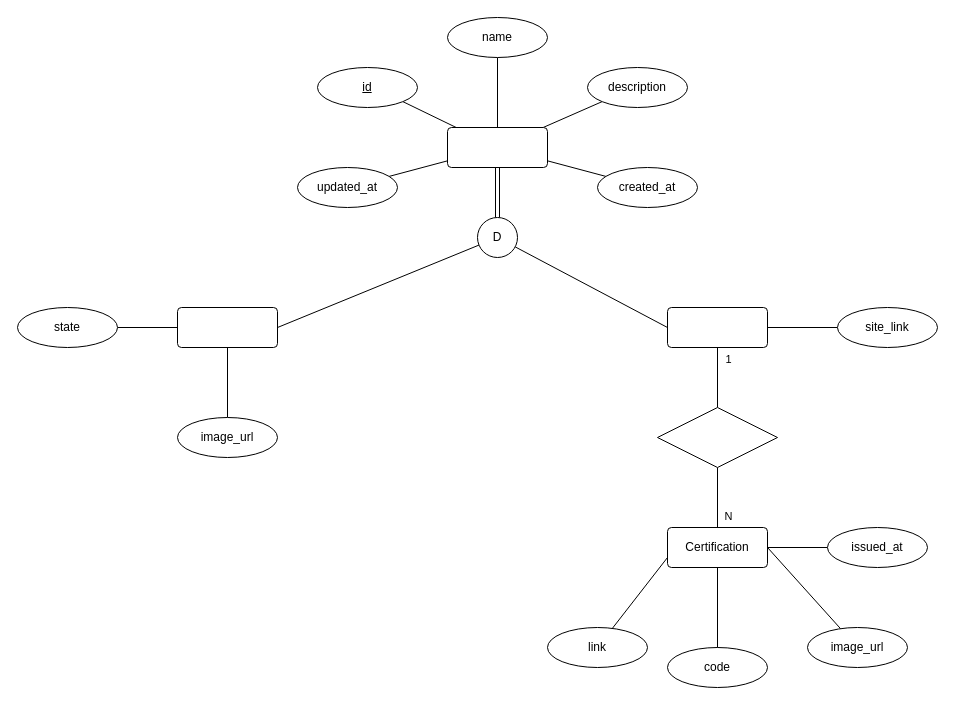
Some shapes in this 955 by 705 pixel diagram are drawn without their labels. The shapes that lost their labels are listed below. From the top down, each one's box as (x1, y1, x2, y2) in pixels, then its label:
(446, 126, 548, 168): BaseContent
(176, 306, 278, 348): Project
(666, 306, 768, 348): Organization
(656, 406, 778, 468): Emit
